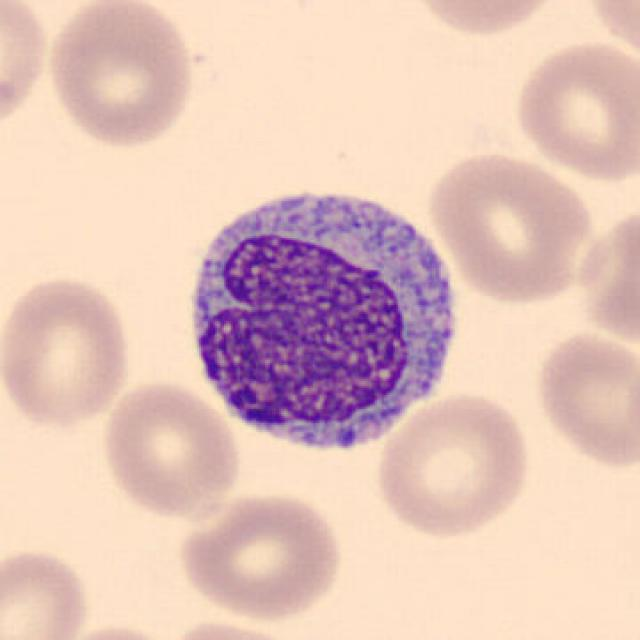Monocyte: (174, 169, 464, 467)
RBC: (423, 148, 597, 305), (372, 388, 535, 541), (174, 487, 348, 624), (41, 0, 197, 152), (0, 270, 137, 432), (96, 376, 244, 524), (508, 37, 638, 183), (530, 326, 638, 473), (572, 198, 638, 352), (0, 543, 94, 640), (0, 0, 52, 141), (404, 0, 567, 41), (580, 0, 638, 67), (160, 615, 308, 640), (54, 622, 182, 640)
